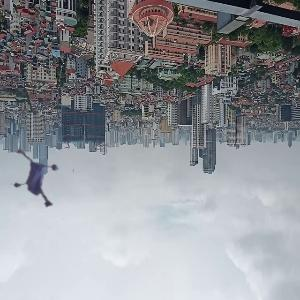drone: (8, 149, 81, 222)
